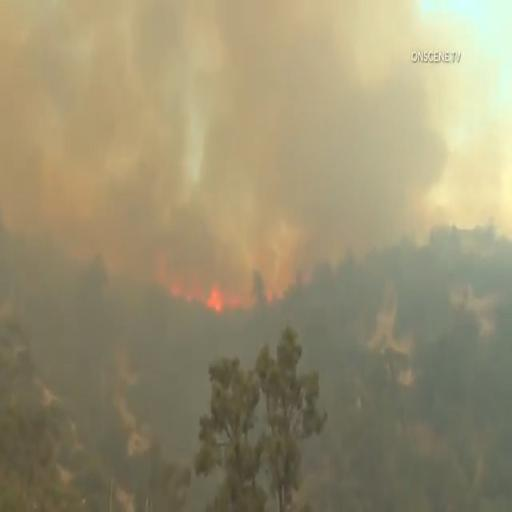smoke: (6, 2, 380, 170)
